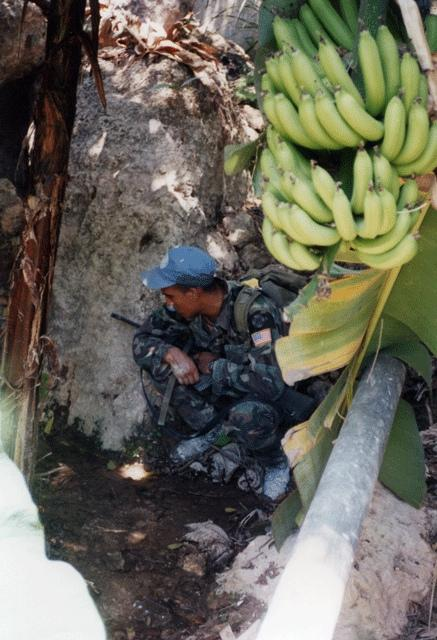banana: (315, 31, 366, 112), (272, 14, 327, 80), (347, 203, 412, 255), (277, 166, 334, 224), (282, 40, 335, 100), (274, 92, 324, 150), (316, 89, 366, 147), (334, 86, 384, 142), (298, 94, 346, 150), (357, 26, 386, 117), (392, 98, 430, 165), (393, 120, 437, 177), (309, 1, 357, 52), (374, 25, 400, 116), (356, 234, 419, 270), (276, 136, 316, 191), (290, 204, 342, 246), (264, 52, 298, 114), (260, 90, 296, 146), (276, 51, 312, 107), (378, 96, 406, 162), (299, 2, 338, 49), (350, 138, 374, 214), (276, 202, 315, 246), (354, 184, 384, 239), (332, 181, 358, 241), (400, 50, 420, 124), (286, 234, 324, 270), (310, 159, 336, 209), (292, 19, 320, 62), (378, 182, 398, 235), (372, 145, 392, 195), (260, 172, 290, 204), (260, 144, 282, 187), (262, 215, 282, 262), (266, 124, 292, 158), (398, 172, 418, 216), (262, 192, 283, 229), (339, 1, 358, 37), (257, 68, 280, 95), (418, 74, 428, 108)
